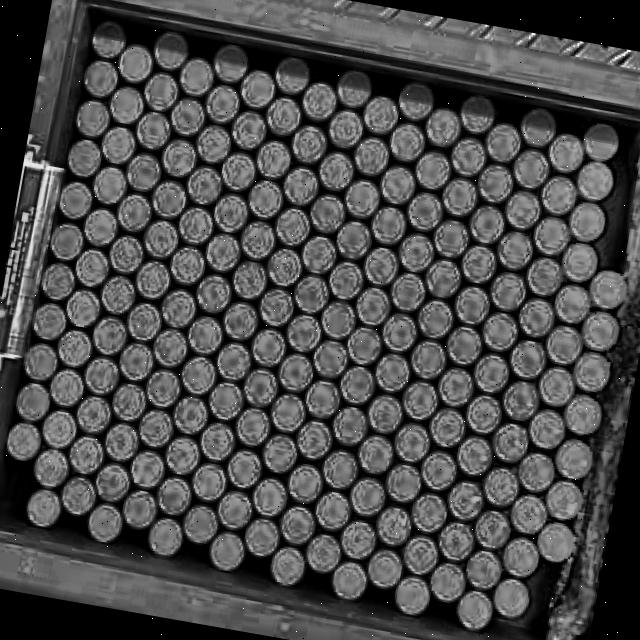vial: (511, 146, 550, 188), (489, 270, 528, 312), (562, 394, 601, 436), (554, 438, 593, 479), (437, 520, 475, 562), (459, 93, 497, 135), (501, 380, 539, 422), (527, 407, 565, 449), (436, 366, 474, 408), (134, 258, 172, 300), (502, 536, 539, 579), (313, 490, 351, 531), (365, 549, 403, 590), (492, 578, 530, 619), (428, 407, 466, 448), (503, 190, 541, 231), (561, 242, 599, 283), (581, 310, 619, 351), (290, 123, 328, 164), (239, 69, 277, 110), (465, 394, 503, 435), (537, 521, 574, 563), (384, 463, 421, 505), (547, 131, 584, 173), (569, 200, 606, 242), (497, 230, 534, 272), (574, 351, 611, 393), (281, 165, 318, 207), (446, 324, 482, 367), (266, 95, 302, 138), (330, 561, 368, 601), (544, 481, 582, 521), (440, 177, 478, 217), (370, 206, 408, 246), (554, 284, 592, 324), (481, 312, 519, 352), (151, 30, 189, 70), (56, 327, 93, 368), (269, 546, 306, 587), (402, 534, 439, 575), (394, 575, 431, 616), (455, 590, 492, 631), (482, 467, 519, 508), (447, 480, 484, 521), (491, 422, 528, 463), (540, 175, 577, 216), (424, 106, 461, 147), (389, 122, 426, 163), (344, 178, 381, 219), (317, 151, 354, 192), (309, 194, 346, 235), (327, 260, 364, 301), (339, 365, 376, 406), (339, 518, 375, 560), (251, 477, 287, 519), (456, 435, 492, 477), (420, 450, 456, 492), (411, 492, 447, 534), (407, 191, 443, 233), (275, 54, 311, 96), (212, 42, 248, 84), (153, 327, 189, 369), (582, 122, 620, 161), (576, 161, 614, 200), (468, 204, 506, 243), (352, 136, 390, 175), (460, 244, 499, 282), (117, 43, 154, 83), (65, 287, 102, 327), (86, 502, 123, 542), (181, 505, 218, 545), (208, 531, 245, 571), (155, 476, 192, 516), (429, 563, 466, 603), (519, 107, 556, 147), (477, 164, 514, 204), (533, 215, 570, 255), (397, 81, 434, 121), (327, 109, 364, 149), (526, 257, 563, 297), (545, 326, 582, 366), (417, 299, 454, 339), (389, 272, 426, 312), (355, 286, 392, 326), (472, 352, 509, 392), (247, 179, 284, 219), (222, 301, 259, 341), (74, 98, 110, 139), (91, 166, 127, 207), (280, 505, 316, 546), (375, 506, 411, 547), (466, 550, 502, 591), (394, 422, 430, 463), (414, 149, 450, 190), (398, 231, 434, 272), (363, 246, 399, 287), (195, 124, 231, 165), (366, 393, 402, 434), (142, 219, 178, 260), (374, 352, 410, 393), (179, 55, 214, 97), (56, 182, 94, 220), (100, 126, 137, 165), (48, 222, 85, 261), (25, 489, 62, 528), (121, 490, 158, 529), (510, 495, 547, 534), (485, 123, 522, 162), (362, 95, 399, 134), (589, 270, 626, 309), (381, 313, 418, 352), (143, 72, 180, 111), (83, 58, 119, 98), (82, 207, 118, 247), (39, 262, 75, 302), (33, 448, 69, 488), (216, 490, 252, 530), (191, 462, 227, 502), (244, 518, 280, 558), (305, 534, 341, 574), (474, 510, 510, 550), (517, 453, 553, 493), (450, 137, 486, 177), (379, 164, 415, 204), (161, 137, 197, 177), (538, 367, 574, 407), (409, 339, 445, 379), (293, 274, 329, 314), (231, 260, 267, 300), (259, 287, 295, 327), (116, 192, 152, 232), (108, 234, 144, 274), (196, 274, 232, 314), (99, 275, 135, 315), (91, 315, 127, 355), (145, 368, 181, 408), (208, 381, 244, 421), (74, 247, 109, 288), (129, 449, 164, 490), (137, 408, 172, 449), (95, 461, 130, 502), (42, 408, 77, 449), (205, 232, 240, 273), (170, 244, 205, 285), (161, 288, 196, 329), (251, 327, 286, 368), (173, 394, 208, 435), (75, 396, 112, 434), (401, 381, 438, 419), (266, 248, 303, 286), (110, 383, 147, 421), (108, 85, 144, 124), (509, 341, 545, 380), (425, 258, 461, 297), (255, 139, 291, 178), (65, 139, 101, 178), (240, 221, 276, 260), (178, 206, 214, 245), (215, 341, 251, 380), (126, 302, 162, 341), (180, 356, 216, 395), (31, 302, 66, 342), (49, 368, 84, 408), (434, 218, 469, 258), (518, 298, 553, 338), (231, 111, 266, 151), (204, 84, 239, 124), (169, 96, 204, 136), (126, 152, 161, 192), (186, 165, 221, 205), (358, 435, 393, 475), (151, 180, 186, 220), (296, 419, 331, 459), (302, 80, 336, 121), (337, 68, 371, 109), (200, 421, 234, 462), (68, 436, 105, 473), (90, 20, 126, 58), (454, 286, 490, 324), (134, 112, 170, 150), (15, 382, 50, 421), (23, 342, 58, 381), (147, 517, 182, 556), (337, 220, 372, 259), (321, 300, 356, 339), (278, 353, 313, 392), (187, 316, 222, 355), (119, 342, 154, 381), (84, 356, 119, 395), (346, 326, 381, 365), (61, 477, 95, 517), (104, 421, 138, 461), (221, 151, 255, 191), (213, 193, 247, 233), (270, 393, 304, 433), (6, 423, 41, 461), (286, 314, 321, 352), (276, 208, 310, 247), (323, 450, 356, 490), (351, 477, 384, 517), (262, 434, 296, 472), (227, 449, 260, 488), (165, 435, 198, 474), (302, 236, 336, 273), (306, 380, 339, 418), (236, 408, 269, 446), (288, 464, 321, 502), (244, 368, 276, 407), (313, 340, 346, 377), (333, 406, 365, 444)
